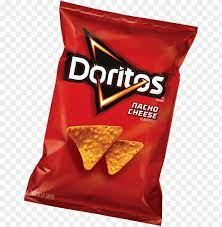Doritos: (20, 2, 200, 223)
